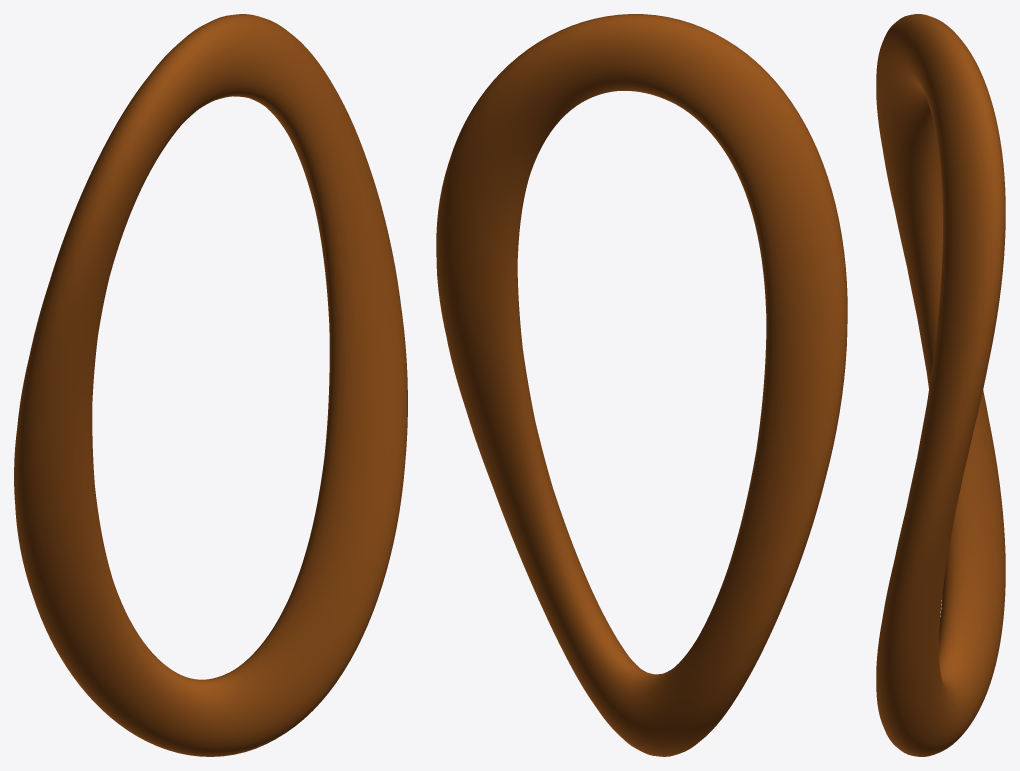
The model's file is BronzeLoop.obj.
3 views of the same model, side by side, from view 1: azimuth 30°, elevation 25°; view 2: azimuth 150°, elevation 25°; view 3: azimuth 270°, elevation 25° (orthographic).
Visible parts, largest first — view 1: BronzeLoop; view 2: BronzeLoop; view 3: BronzeLoop.
Part boxes in pixels (left/top/right/bottom): BronzeLoop: left=14, top=14, right=407, bottom=756; BronzeLoop: left=436, top=14, right=847, bottom=756; BronzeLoop: left=876, top=14, right=1005, bottom=756.
Bounding box in the file's own units: 0.5926 × 1.07 × 0.1742.
